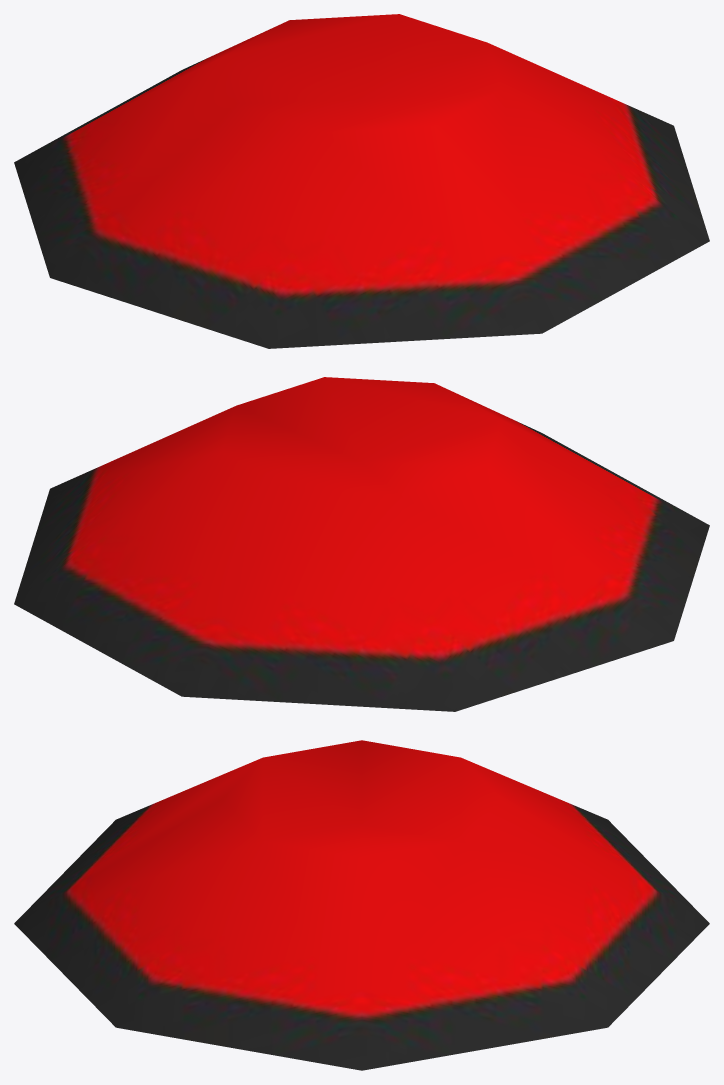
File: defaultconered.glb
3 renders of one model, top to bottom at view 1: azimuth 30°, elevation 25°; view 2: azimuth 150°, elevation 25°; view 3: azimuth 270°, elevation 25°, orthographic. The views are drawn at different scales.
Visible parts, largest first — view 1: DefaultConeRed; view 2: DefaultConeRed; view 3: DefaultConeRed.
Boxes of the visible parts, x1,y1,x2,y2 form: DefaultConeRed: (14, 14, 709, 348); DefaultConeRed: (14, 377, 709, 711); DefaultConeRed: (14, 740, 709, 1070).
Size of the model in its own units: 0.312 by 0.0614 by 0.312.
1 material, 1 textured.
